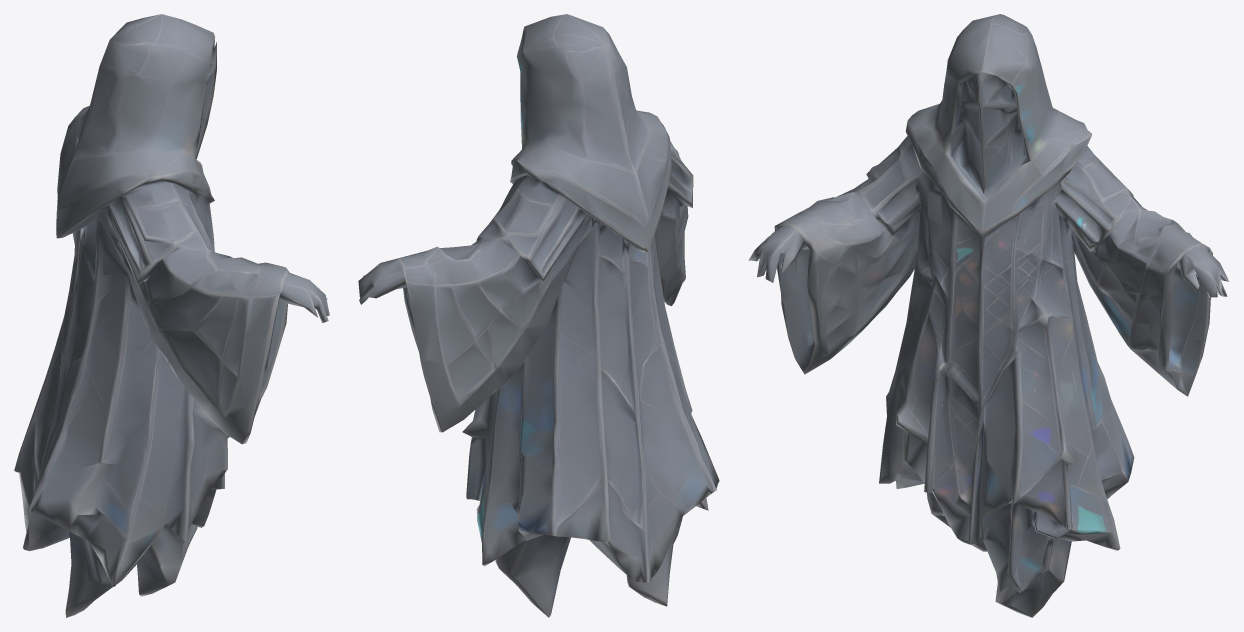
Rendered from ghost.glb.
3 renders of one model, left to right at view 1: azimuth 30°, elevation 25°; view 2: azimuth 150°, elevation 25°; view 3: azimuth 270°, elevation 25°, orthographic.
Visible parts, largest first — view 1: tripo_node_1a29c1e8-bfdb-4465-9470-122bd5aa245d; view 2: tripo_node_1a29c1e8-bfdb-4465-9470-122bd5aa245d; view 3: tripo_node_1a29c1e8-bfdb-4465-9470-122bd5aa245d.
Boxes of the visible parts, <box> form: tripo_node_1a29c1e8-bfdb-4465-9470-122bd5aa245d: <box>14,14,329,617</box>; tripo_node_1a29c1e8-bfdb-4465-9470-122bd5aa245d: <box>358,14,719,617</box>; tripo_node_1a29c1e8-bfdb-4465-9470-122bd5aa245d: <box>748,14,1229,617</box>.
Size of the model in its own units: 0.4344 by 1 by 0.7275.
Materials: 1 (1 with a texture image).
